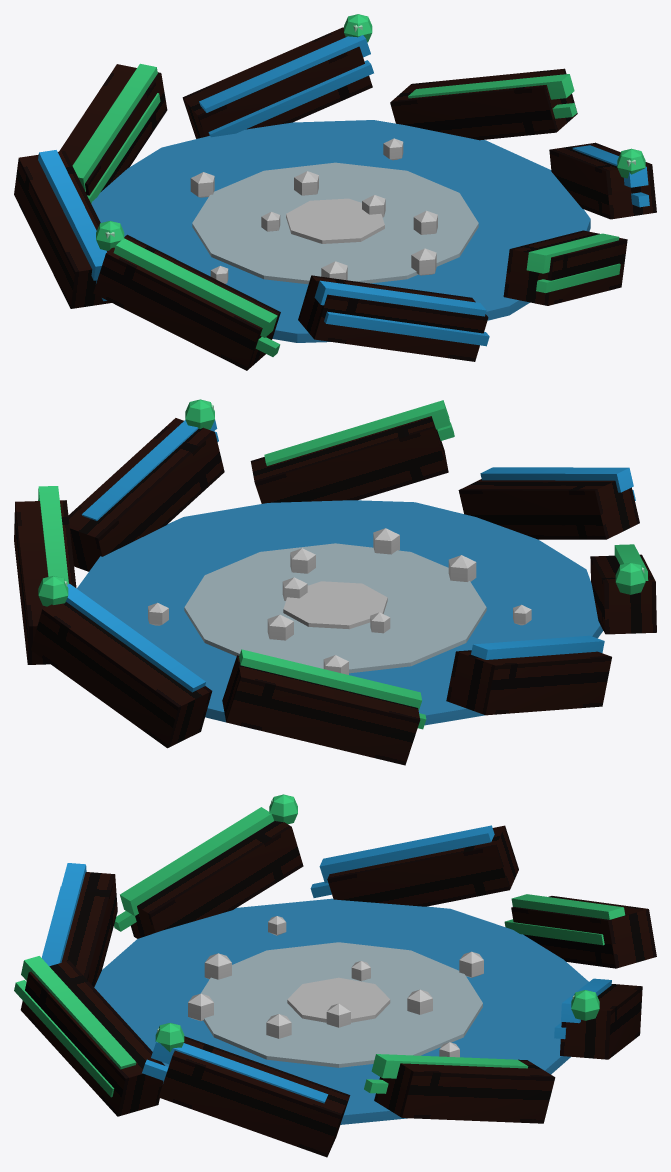
The model's file is heart_spring.glb.
3 views of the same model, one above another, from view 1: azimuth 30°, elevation 25°; view 2: azimuth 150°, elevation 25°; view 3: azimuth 270°, elevation 25° (orthographic). The views are drawn at different scales.
Visible parts, largest first — view 1: heart_spring; view 2: heart_spring; view 3: heart_spring.
Boxes of the visible parts, x1,y1,x2,y2 form: heart_spring: (14, 14, 656, 370); heart_spring: (14, 399, 656, 765); heart_spring: (14, 794, 656, 1157).
Bounding box in the file's own units: 3.09 × 0.5949 × 3.12.
2 materials, 1 textured.
